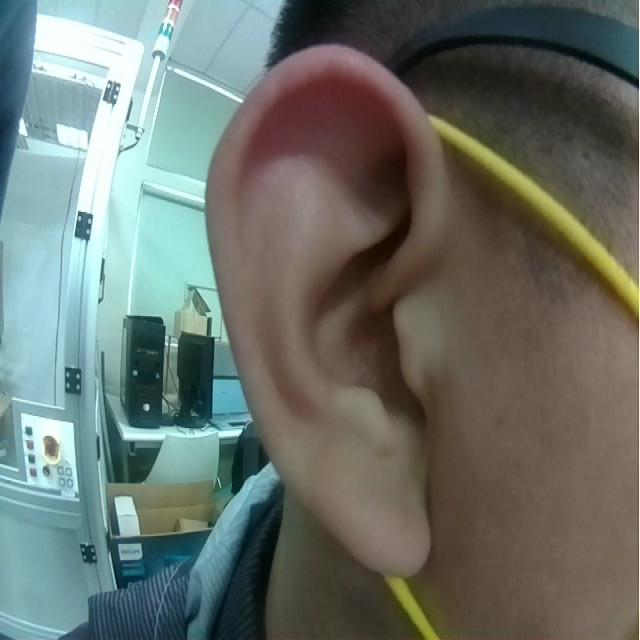no-earmuff: (201, 41, 449, 578)
